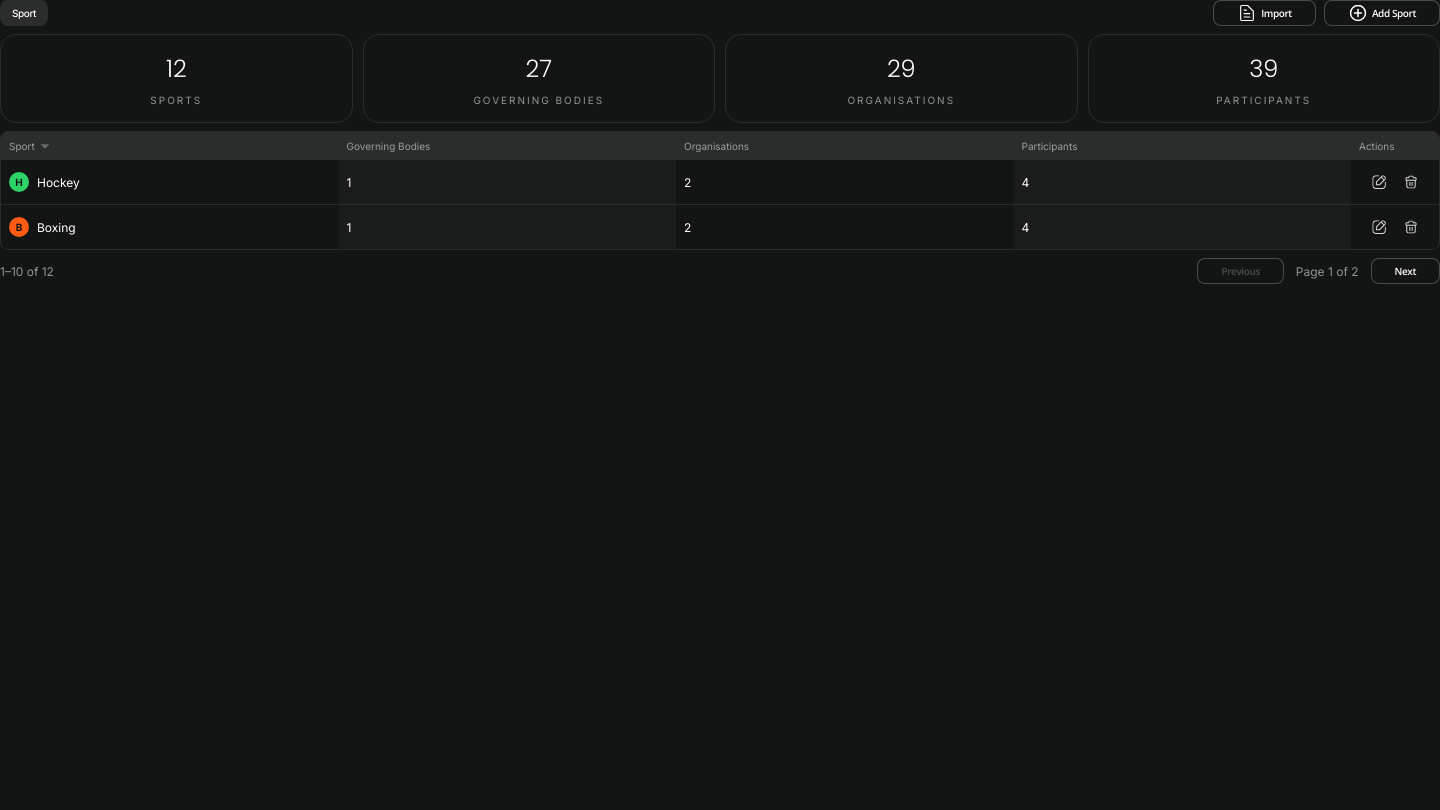
Test: SportListPage › explains a duplicate name and keeps the form open
Click the button "Add Sport". click: (1382, 13)
box: [1324, 0, 1439, 26]
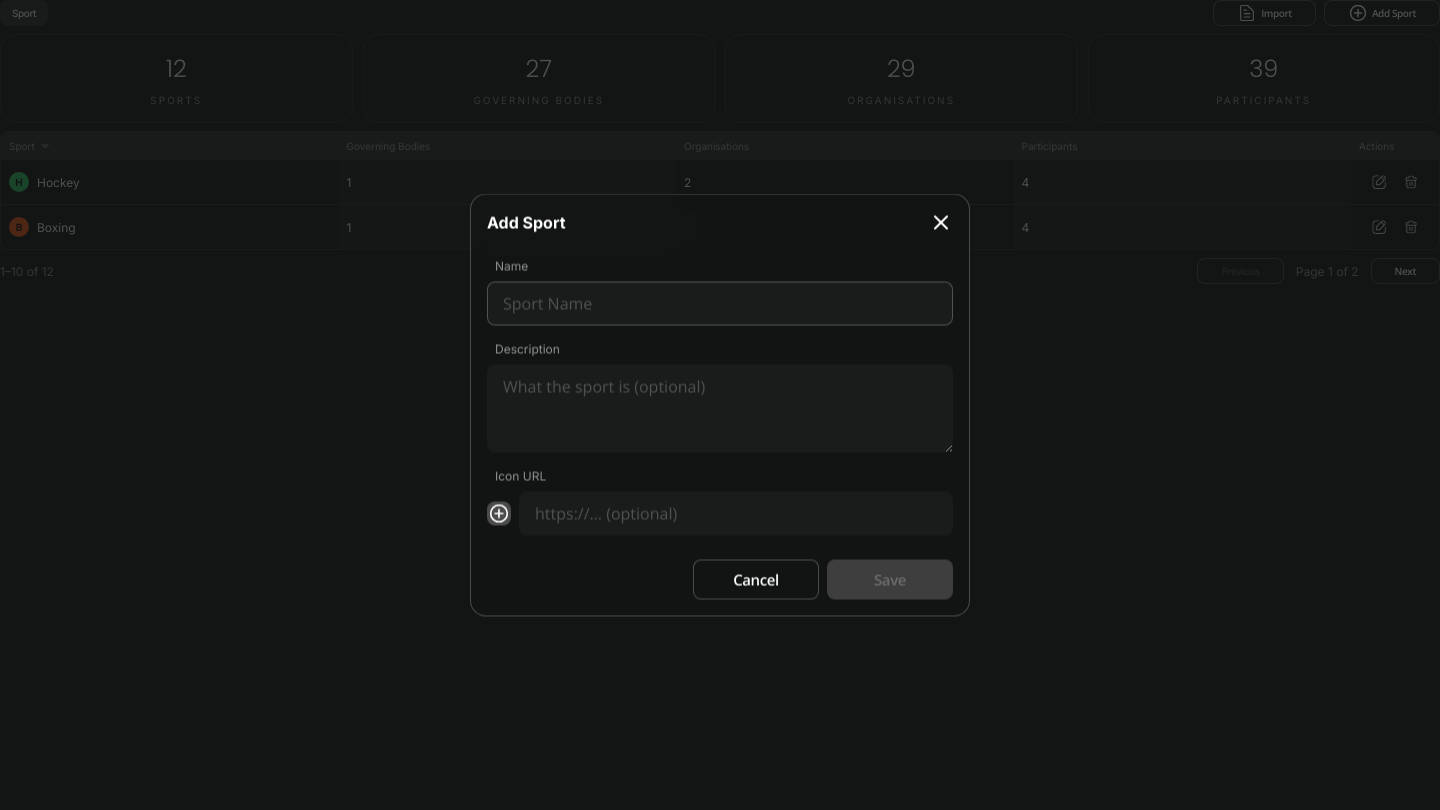
Type "Hockey" into the field with id "sport-name". click: (720, 304)
box: [503, 282, 937, 326]
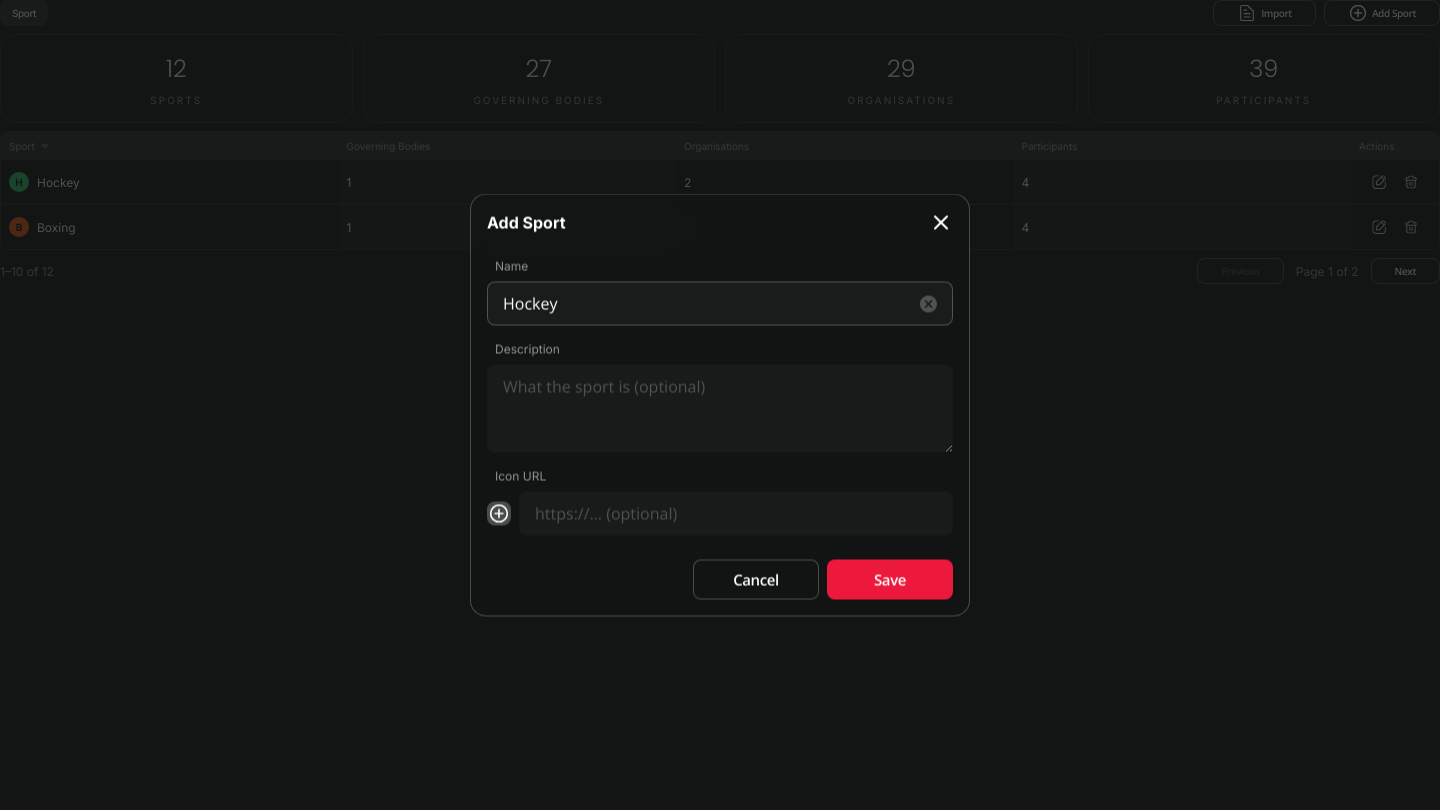
Click the submit button. click: (890, 580)
box: [827, 560, 953, 600]
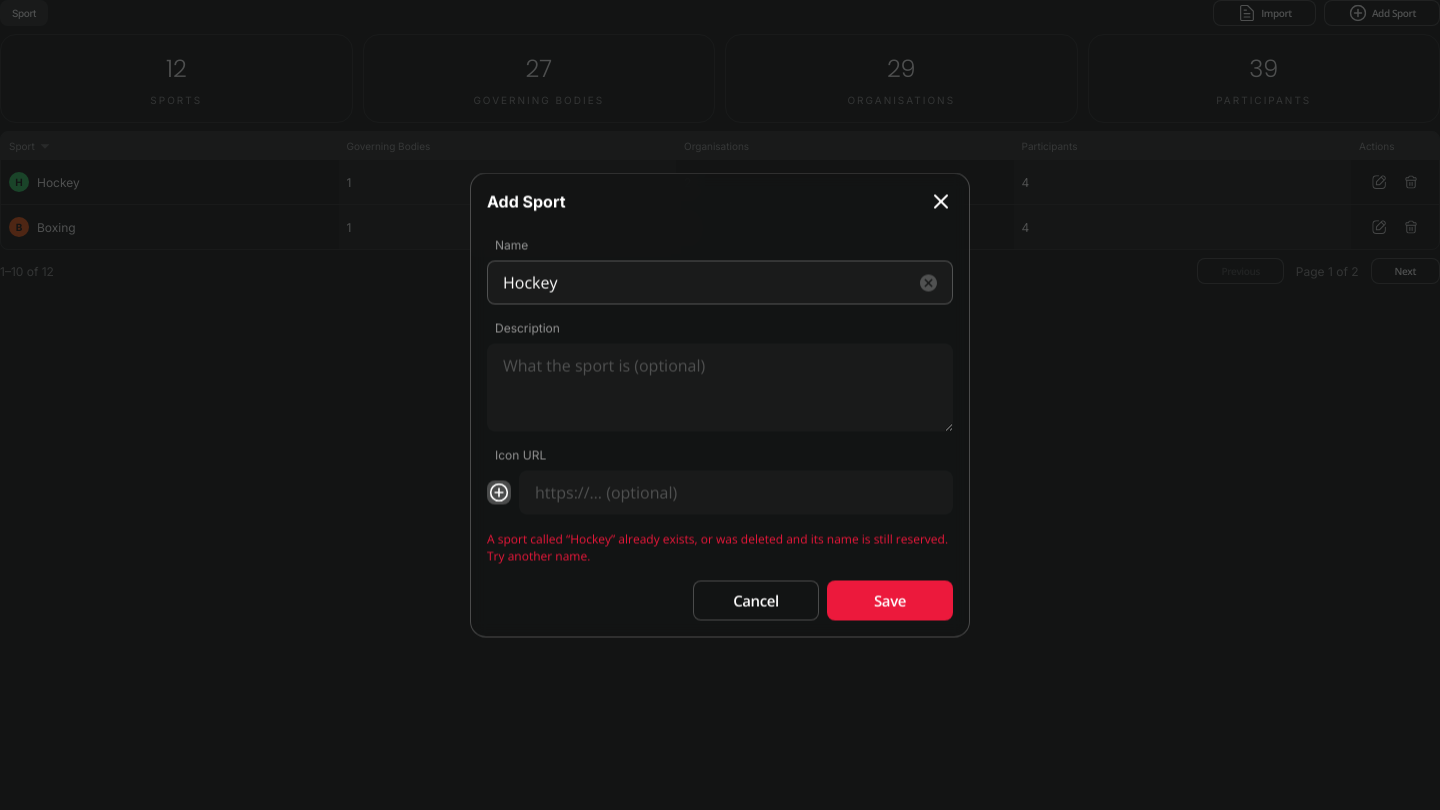
expect the dialog with class "modal" is shown: met, box [470, 172, 970, 638]
expect the message shows "A sport called “Hockey” already exists": met, box [487, 530, 948, 564]
